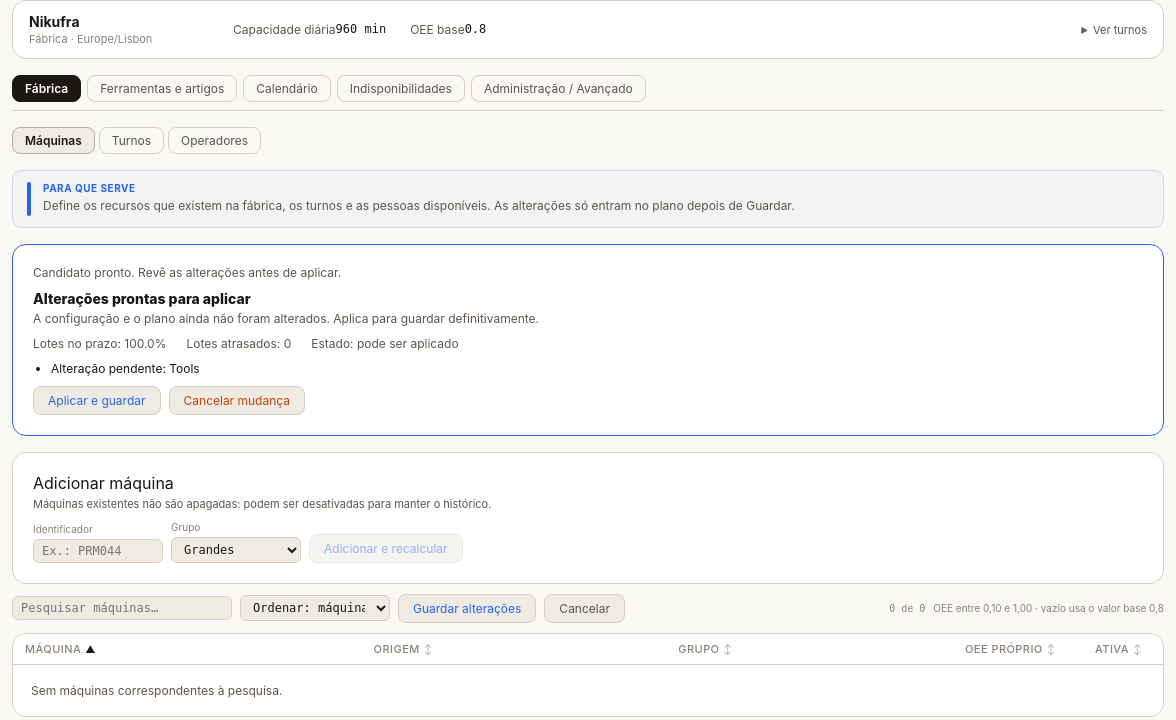
Test: Configuração › removes the pending candidate when a lost cancellation response is recovered as cancelled
Expected: the button "Aplicar e guardar" is shown, top-left (33, 386), bottom-right (160, 415)
Click the button "Cancelar mudança": [237, 400] box top-left (168, 386), bottom-right (305, 415)
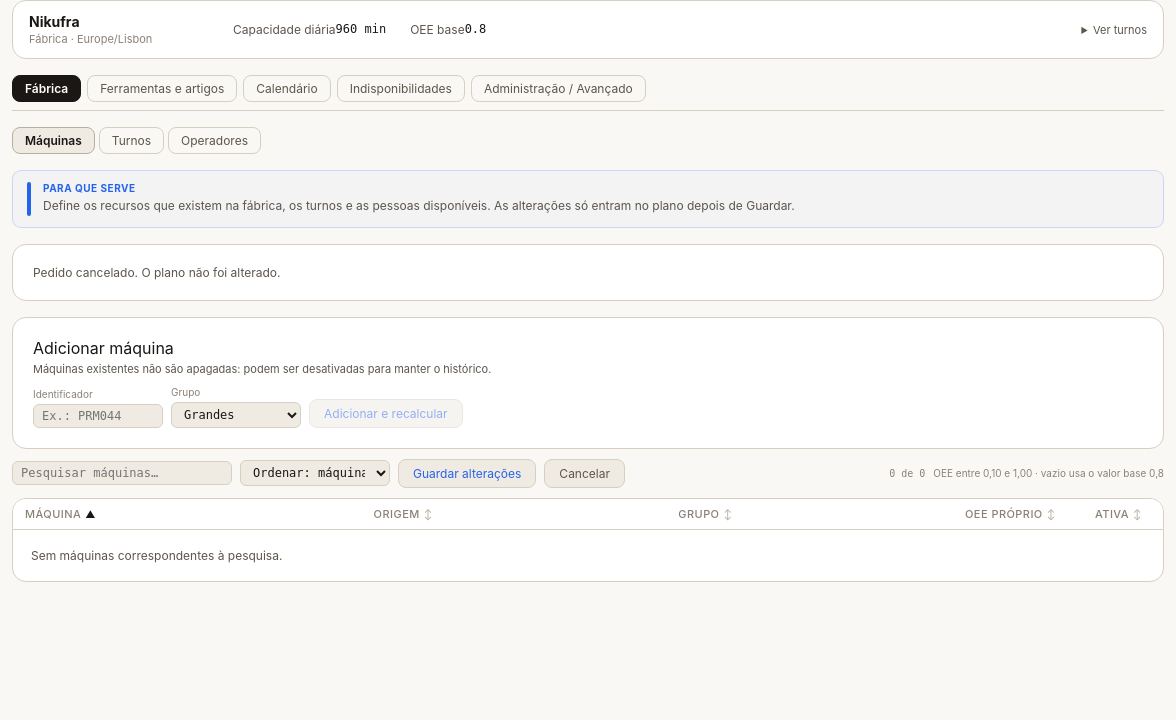
Now the text "Pedido cancelado. O plano não foi alterado." is shown, box top-left (33, 265), bottom-right (280, 280)
Now the button "Aplicar e guardar" is gone
